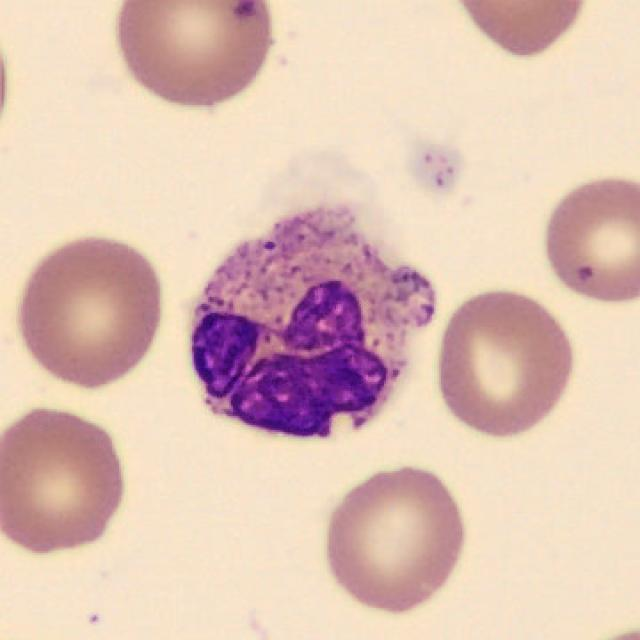Neutrofilo segmentado: (190, 208, 437, 439)
